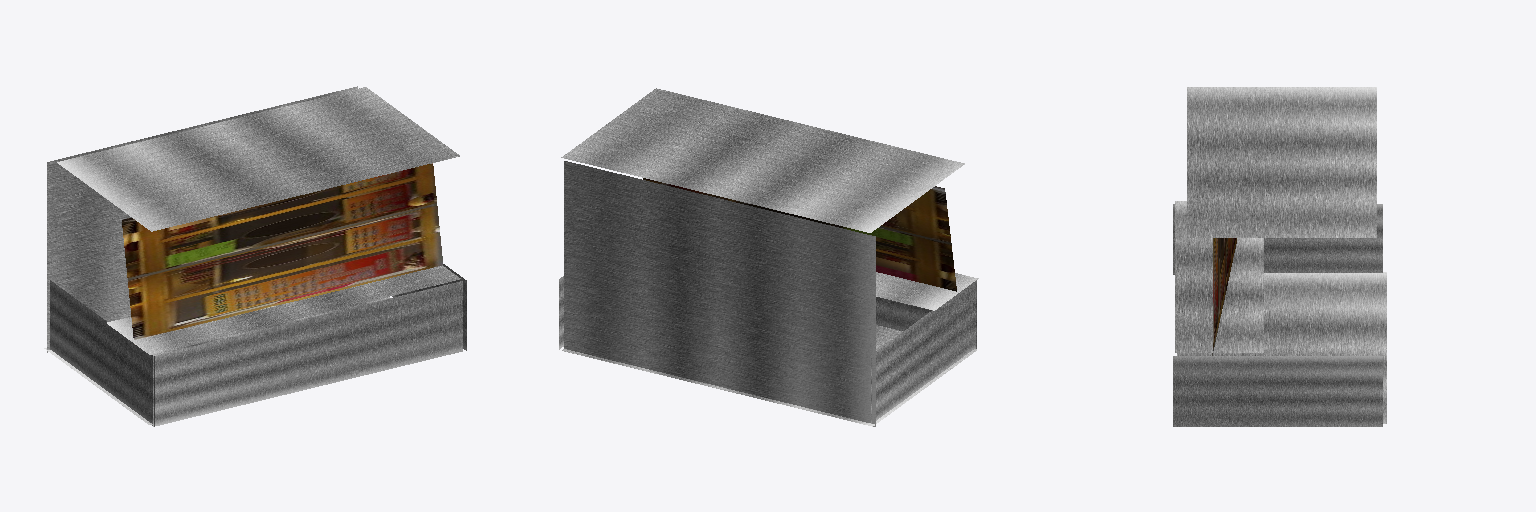
3 renders of one model, left to right at view 1: azimuth 30°, elevation 25°; view 2: azimuth 150°, elevation 25°; view 3: azimuth 270°, elevation 25°, orthographic.
Parts seen in each view (by area): view 1: Box008, Box003, Box007, Box002, Box005, Box004, Box001; view 2: Box002, Box003, Box005, Box008, Box004, Box001, Box007; view 3: Box003, Box006, Box001, Box004, Box005, Box008.
Part boxes in pixels (left/top/right/bottom): Box008: left=122, top=163, right=442, bottom=344; Box003: left=57, top=87, right=459, bottom=231; Box007: left=153, top=281, right=462, bottom=426; Box002: left=47, top=86, right=357, bottom=352; Box005: left=50, top=280, right=154, bottom=426; Box004: left=107, top=265, right=460, bottom=354; Box001: left=44, top=297, right=389, bottom=424; Box002: left=564, top=161, right=875, bottom=426; Box003: left=561, top=88, right=964, bottom=232; Box005: left=871, top=281, right=975, bottom=423; Box008: left=643, top=178, right=956, bottom=291; Box004: left=876, top=272, right=978, bottom=310; Box001: left=562, top=325, right=976, bottom=426; Box007: left=876, top=280, right=976, bottom=348; Box003: left=1187, top=87, right=1376, bottom=237; Box006: left=1173, top=356, right=1382, bottom=426; Box001: left=1177, top=272, right=1386, bottom=423; Box004: left=1175, top=201, right=1263, bottom=352; Box005: left=1173, top=204, right=1382, bottom=274; Box008: left=1212, top=238, right=1236, bottom=355.
Size of the model in its own units: 77.82 by 44.73 by 45.57.
2 materials, 2 textured.